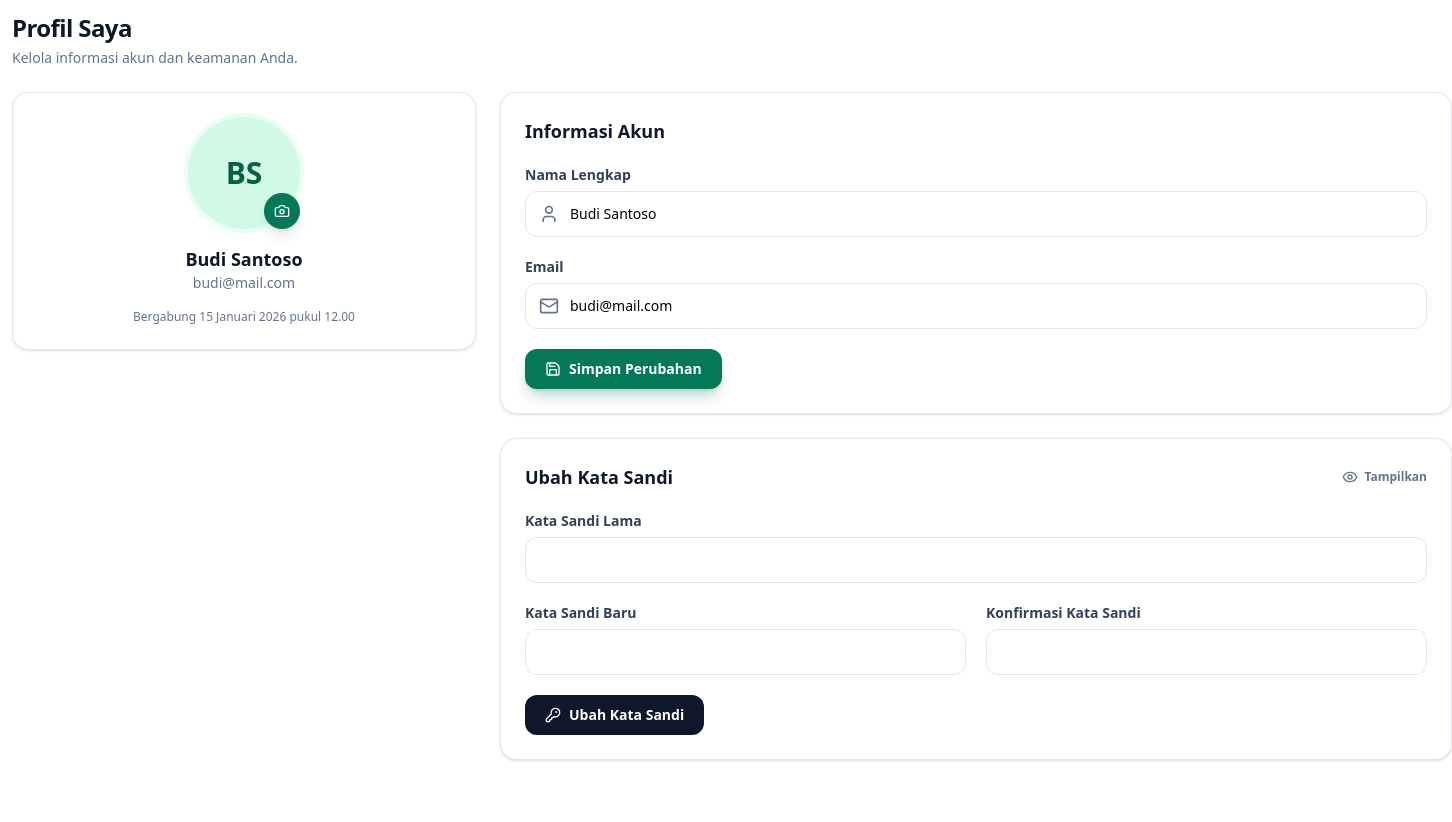
Test: formulir informasi akun › menolak format email yang tidak valid
Replace the text in the field with id "name" with "Budi" at (976, 214), box [525, 191, 1427, 237]
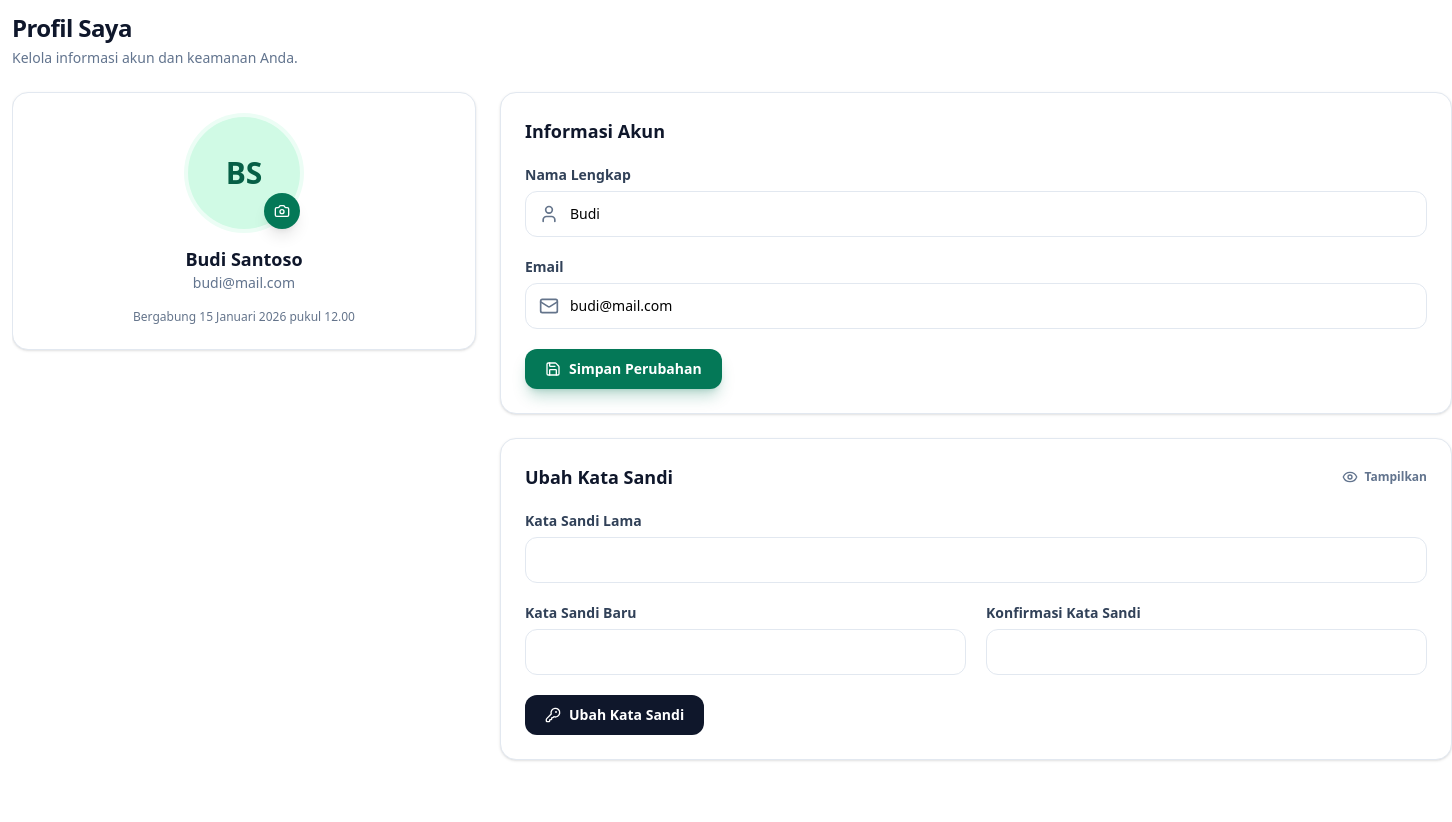
Replace the text in the field with id "email" with "bukan-email" at (976, 306), box [525, 283, 1427, 329]
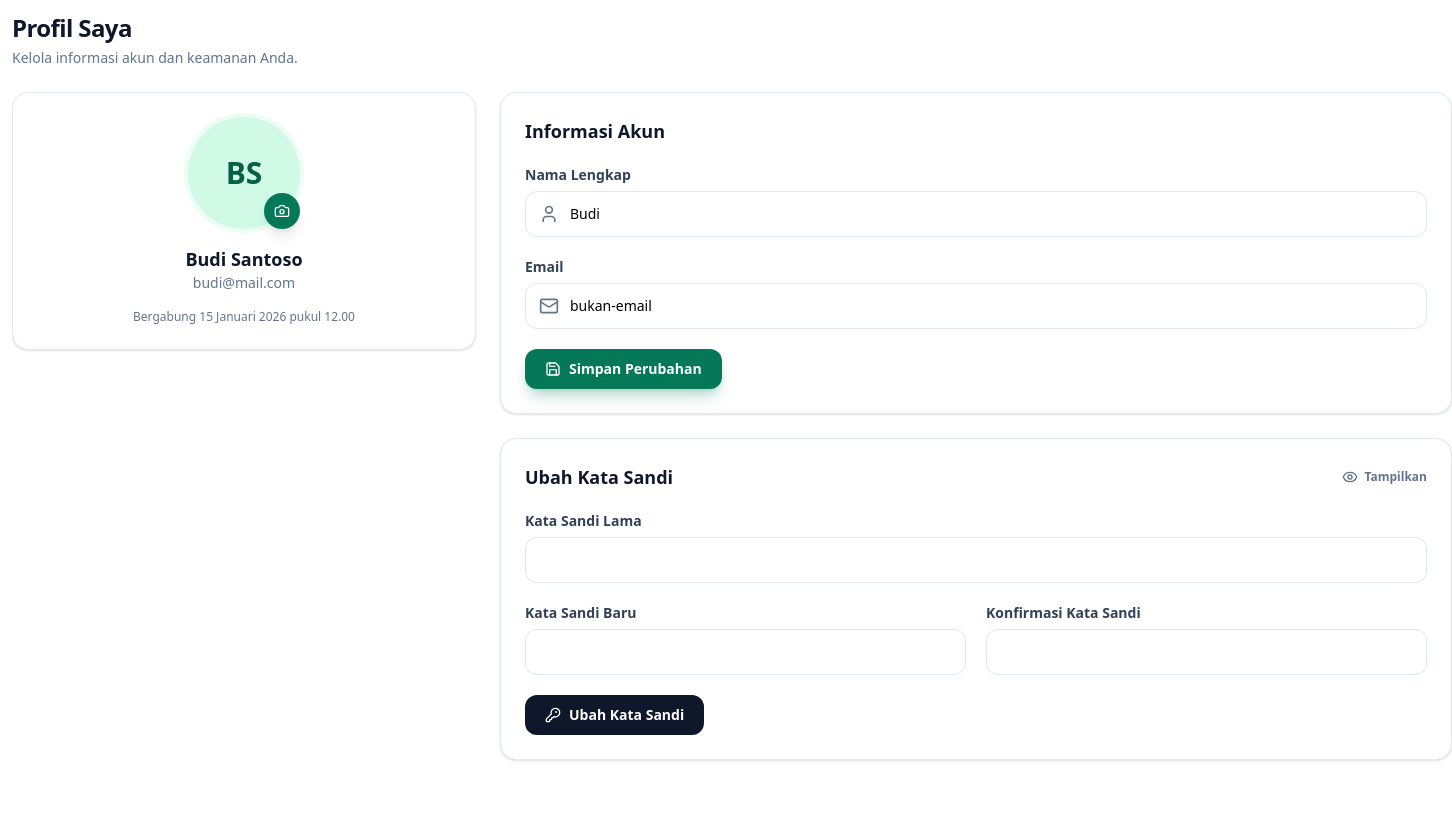
Submit the form "Informasi Akun Nama Lengkap Email Simpan Perubahan", box [500, 92, 1451, 414]
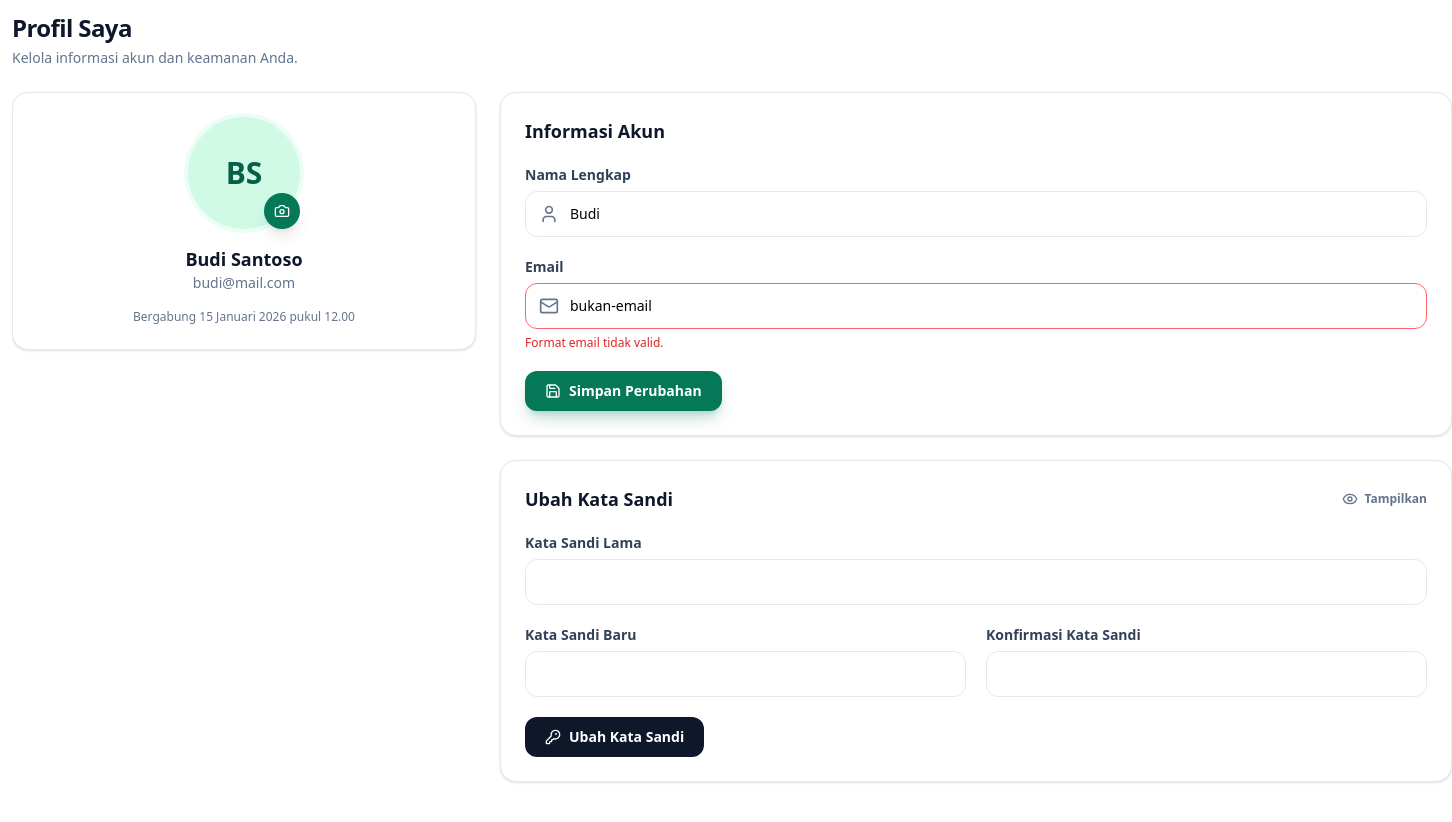
Expected: the text "Format email tidak valid." is shown, [525, 334, 664, 351]
